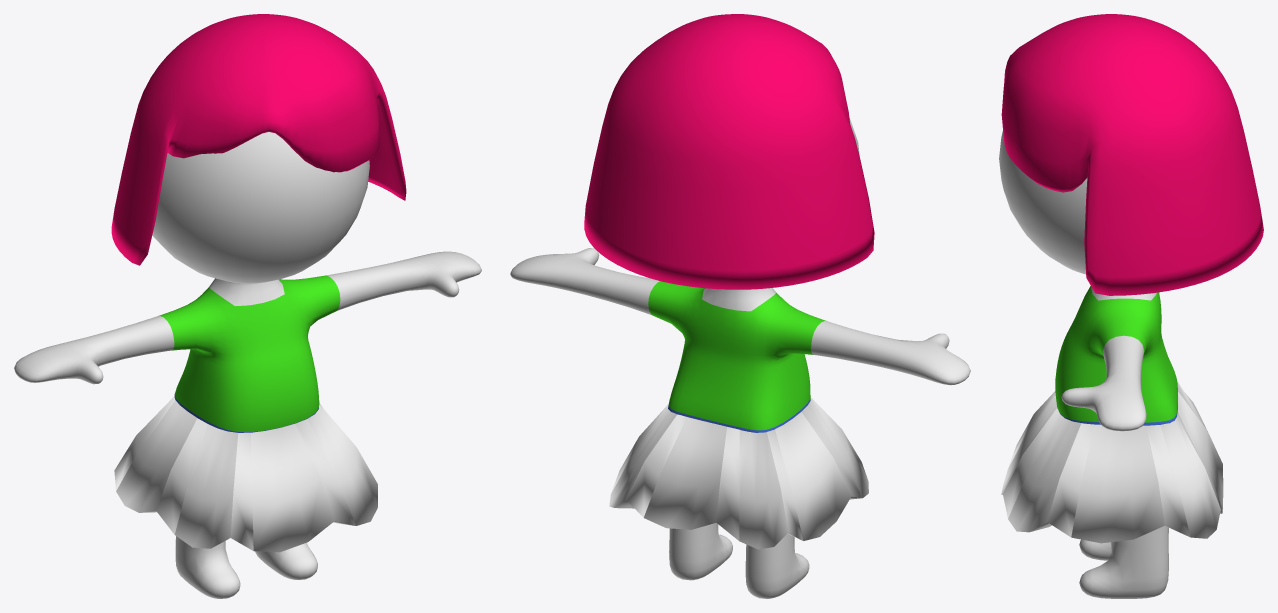
Rendered from _irl 1.fbx.
The picture shows the model from 3 angles, left to right: view 1: azimuth 30°, elevation 25°; view 2: azimuth 150°, elevation 25°; view 3: azimuth 270°, elevation 25°; orthographic projection.
Visible parts, largest first — view 1: Sphere.001, Cube, Cube.001, Sphere; view 2: Sphere.001, Cube, Cube.001; view 3: Sphere.001, Cube.001, Cube, Sphere.
Boxes of the visible parts, x1,y1,x2,y2 form: Sphere.001: (111,14,406,265); Cube: (14,251,481,598); Cube.001: (114,396,377,552); Sphere: (152,132,369,283); Sphere.001: (584,14,874,289); Cube: (510,248,970,598); Cube.001: (609,397,868,549); Sphere.001: (1001,14,1263,295); Cube.001: (1001,381,1223,543); Cube: (1055,286,1177,598); Sphere: (999,131,1087,274).
Size of the model in its own units: 746 by 864 by 373.
